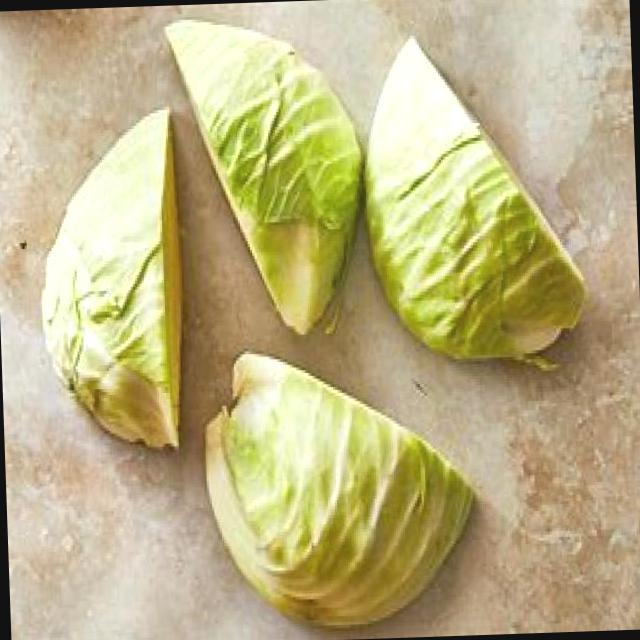cabbage: (352, 29, 588, 373), (190, 356, 480, 626), (154, 9, 370, 340), (27, 125, 194, 452)
